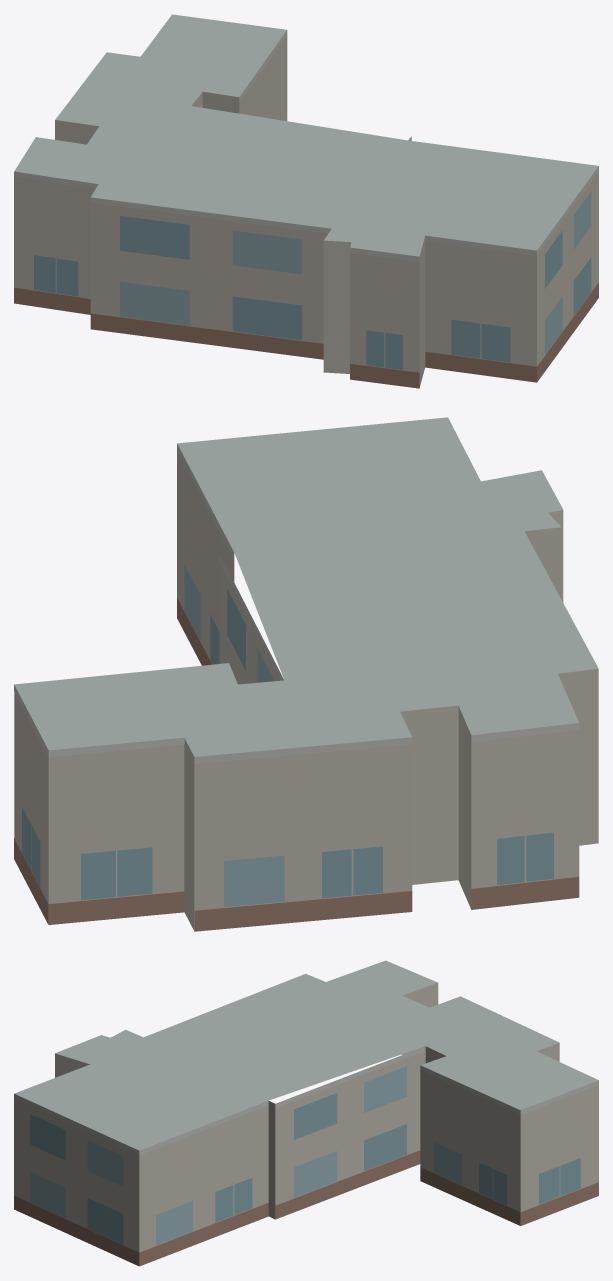
File: survey-upis-32852079.glb
3 views of the same model, one above another, from view 1: azimuth 30°, elevation 25°; view 2: azimuth 150°, elevation 25°; view 3: azimuth 270°, elevation 25° (orthographic). The views are drawn at different scales.
Visible parts, largest first — view 1: survey-upis-32852079.tmp; view 2: survey-upis-32852079.tmp; view 3: survey-upis-32852079.tmp.
Boxes of the visible parts, x1=… form: survey-upis-32852079.tmp: x1=14, y1=14, x2=598, y2=388; survey-upis-32852079.tmp: x1=14, y1=417, x2=598, y2=931; survey-upis-32852079.tmp: x1=14, y1=960, x2=598, y2=1266.
Size of the model in its own units: 21.51 by 6.1 by 27.94.
